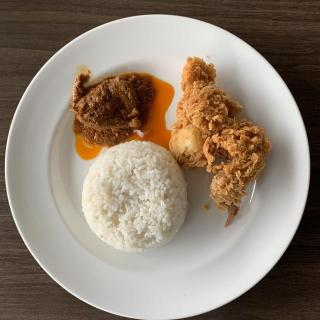Nasi: (84, 142, 188, 252)
